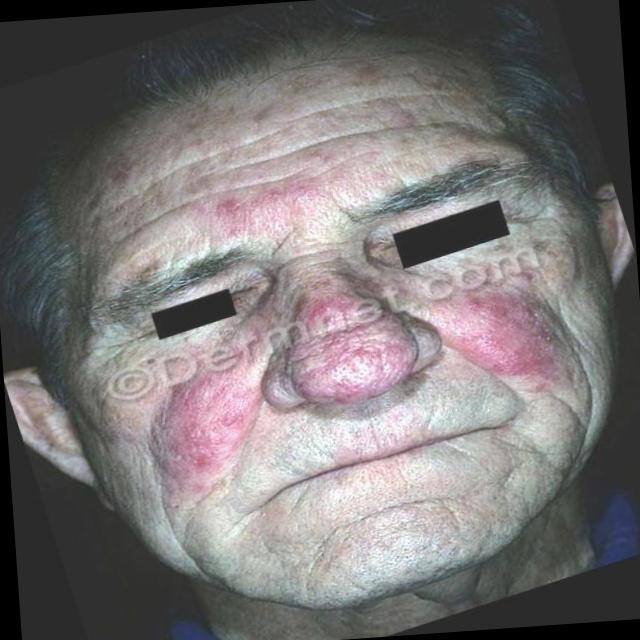skinredness: (96, 252, 580, 552)
